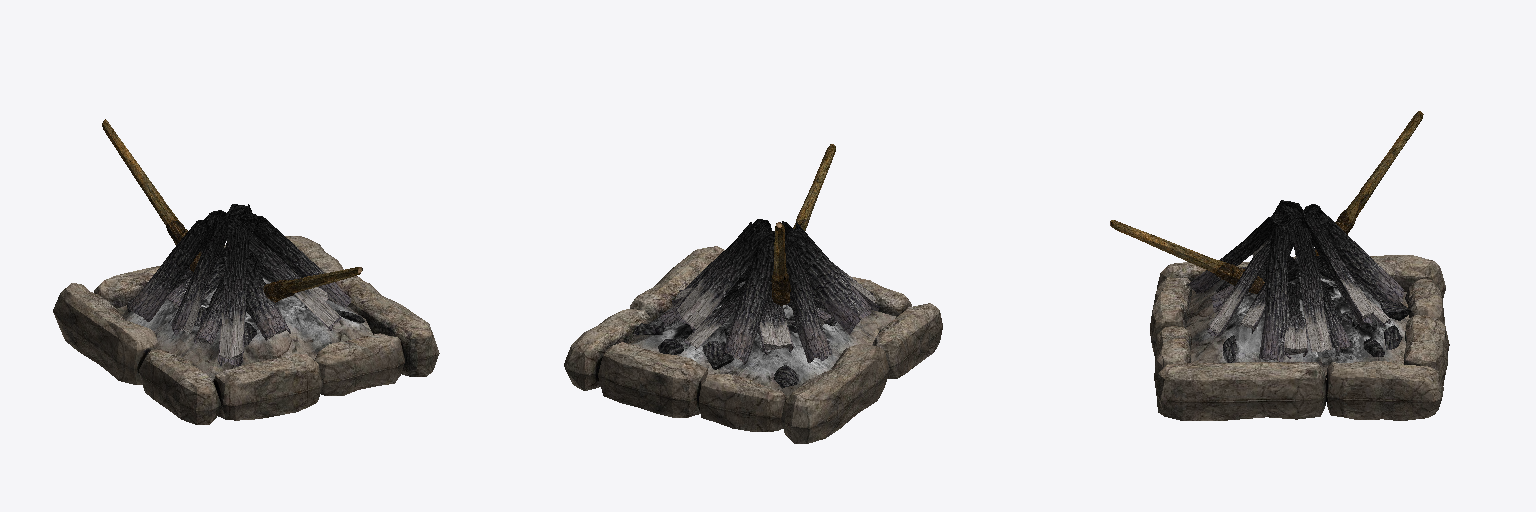
3 renders of one model, left to right at view 1: azimuth 30°, elevation 25°; view 2: azimuth 150°, elevation 25°; view 3: azimuth 270°, elevation 25°, orthographic.
Size of the model in its own units: 98.28 by 77.41 by 113.
Materials: 3 (3 with a texture image).